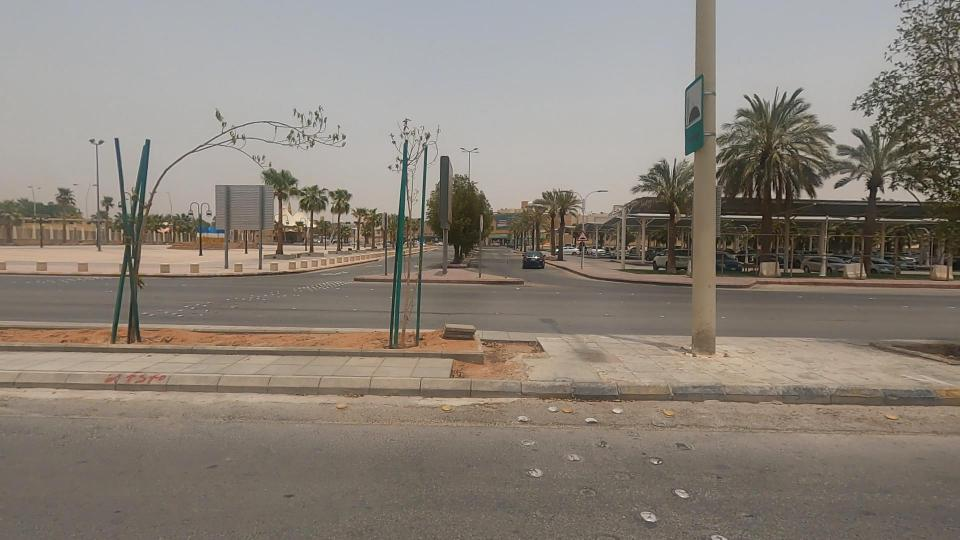CLUTTER_SIDEWALK: (134, 290, 588, 384)
